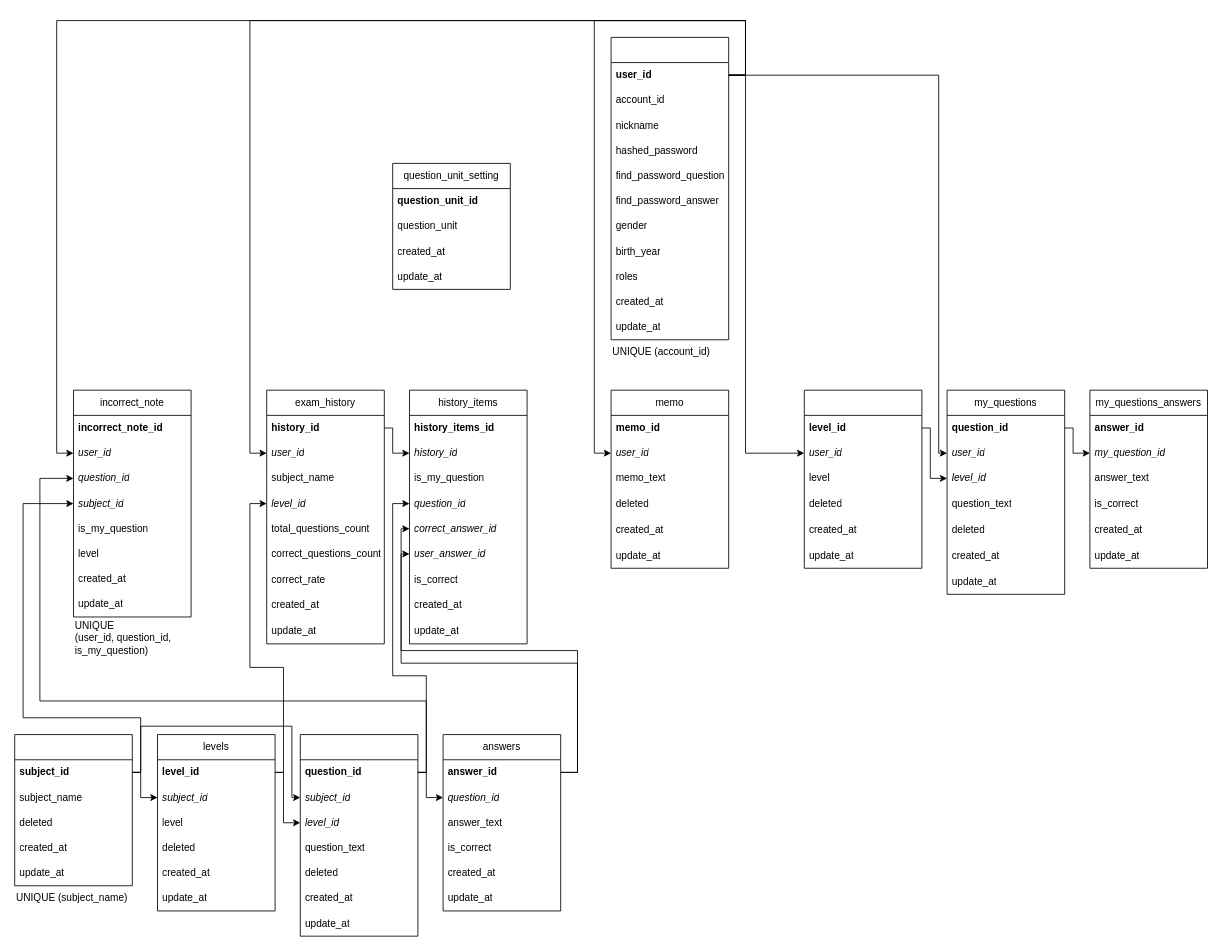
The diagram is 1222 pixels wide and 951 high, and some of its shapes have lost their labels. The box of each missing label's shape, as (x1, y1, x2, y2) in pixels:
my_questions_levels: (803, 389, 922, 568)
questions: (299, 734, 418, 936)
subjects: (14, 734, 132, 886)
users: (610, 37, 729, 340)
